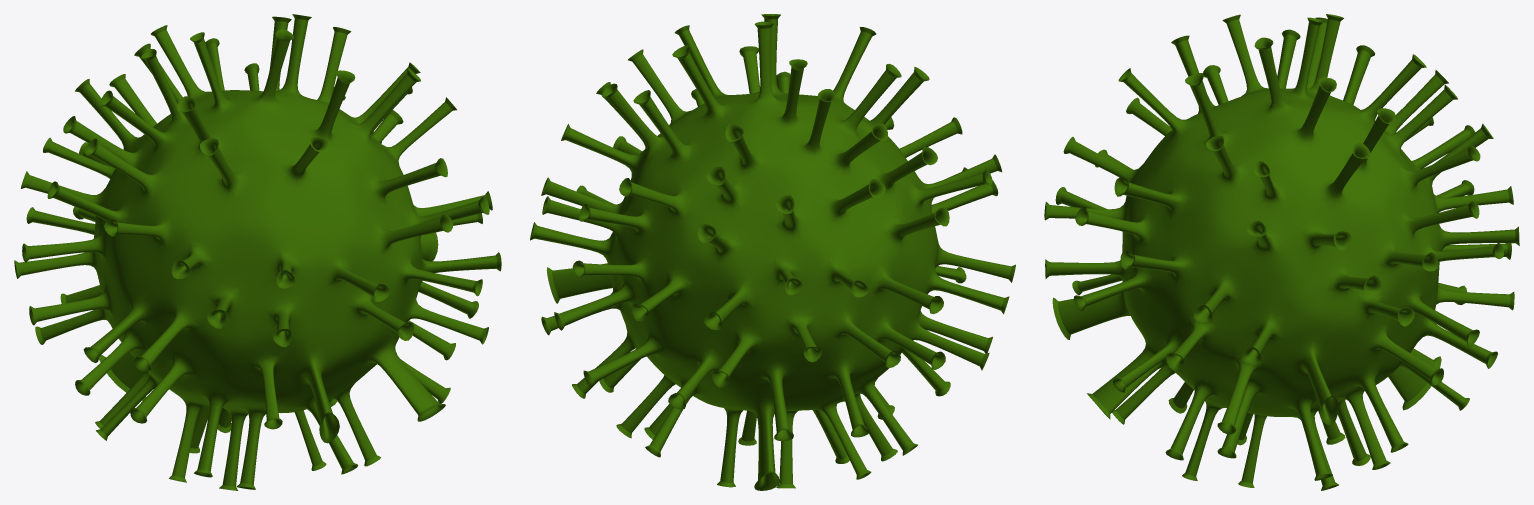
The model's file is Virus_projectile.fbx.
The picture shows the model from 3 angles, left to right: view 1: azimuth 30°, elevation 25°; view 2: azimuth 150°, elevation 25°; view 3: azimuth 270°, elevation 25°; orthographic projection.
Visible parts, largest first — view 1: Virus; view 2: Virus; view 3: Virus.
Part boxes in pixels (x1,y1,x2,y2): Virus: (14,14,501,490); Virus: (530,14,1015,490); Virus: (1044,14,1519,490).
Bounding box in the file's own units: 5.62 × 5.66 × 5.62.
